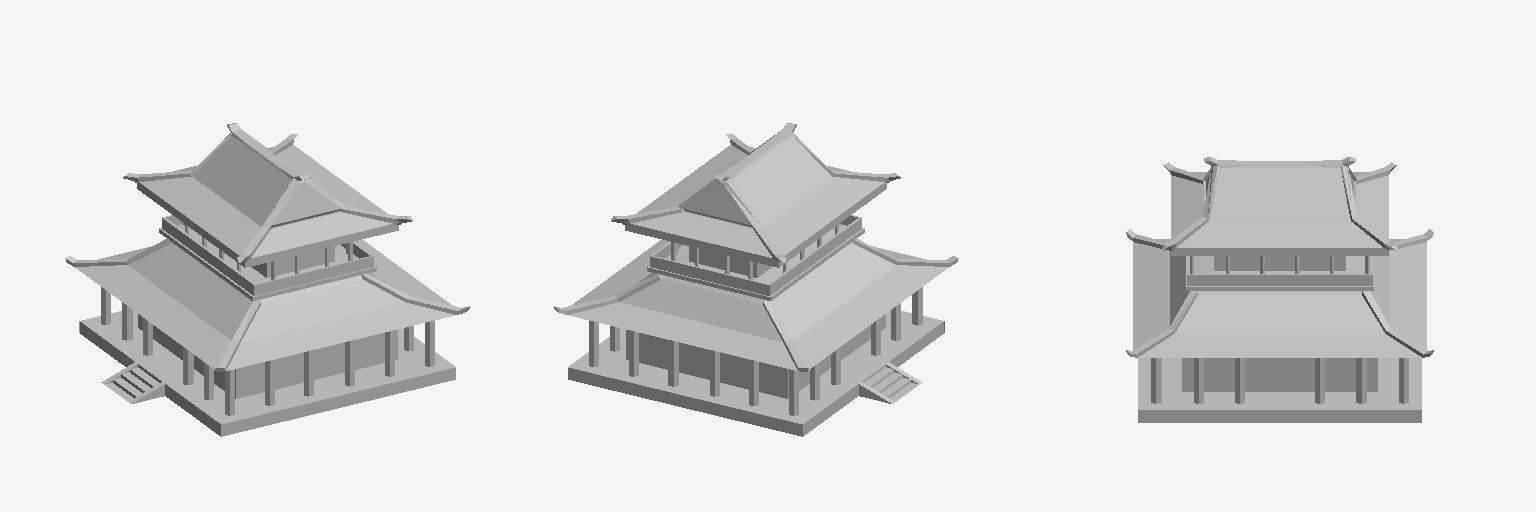
File: TEMPLE.obj
3 renders of one model, left to right at view 1: azimuth 30°, elevation 25°; view 2: azimuth 150°, elevation 25°; view 3: azimuth 270°, elevation 25°, orthographic.
Parts seen in each view (by area): view 1: pCube1, pCylinder38; view 2: pCube1, pCylinder38; view 3: pCube1, pCylinder38.
Part boxes in pixels (bbox=[...]): pCube1: bbox=[65, 123, 469, 436]; pCylinder38: bbox=[101, 223, 434, 415]; pCube1: bbox=[554, 123, 958, 436]; pCylinder38: bbox=[589, 223, 922, 415]; pCube1: bbox=[1126, 157, 1433, 422]; pCylinder38: bbox=[1151, 256, 1408, 403].
Bounding box in the file's own units: 0.1861 × 0.1316 × 0.1776.